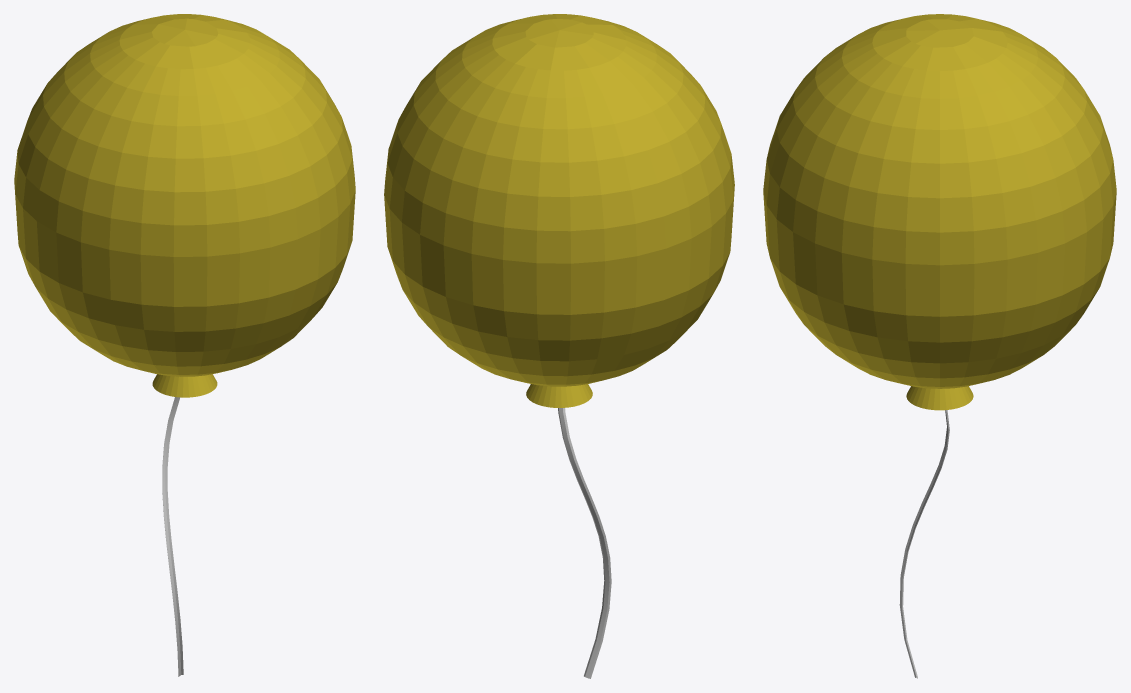
Rendered from balloon.obj.
3 views of the same model, side by side, from view 1: azimuth 30°, elevation 25°; view 2: azimuth 150°, elevation 25°; view 3: azimuth 270°, elevation 25° (orthographic). The views are drawn at different scales.
Parts seen in each view (by area): view 1: Cone, BezierCurve_BezierCurve.002; view 2: Cone, BezierCurve_BezierCurve.002; view 3: Cone, BezierCurve_BezierCurve.002.
Boxes of the visible parts, x1,y1,x2,y2 form: Cone: (14, 14, 355, 397); BezierCurve_BezierCurve.002: (162, 397, 183, 676); Cone: (384, 14, 734, 407); BezierCurve_BezierCurve.002: (558, 408, 611, 678); Cone: (763, 14, 1116, 410); BezierCurve_BezierCurve.002: (899, 410, 949, 678).
Bounding box in the file's own units: 2 × 4.1 × 2.
